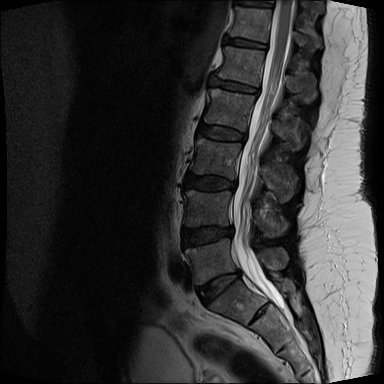Degenerative Disc Disease (DDD): (216, 31, 272, 54)
Lumbar Disc Bulge (LDB): (190, 263, 247, 313), (175, 217, 241, 256), (189, 115, 250, 149), (178, 170, 245, 198), (202, 73, 266, 99)
Spinal Stenosis (SS): (224, 172, 241, 199), (222, 218, 240, 242), (248, 82, 266, 102), (236, 125, 253, 146), (232, 263, 247, 285)
Thoracic Disc Bulge (TDB): (218, 32, 274, 51)
